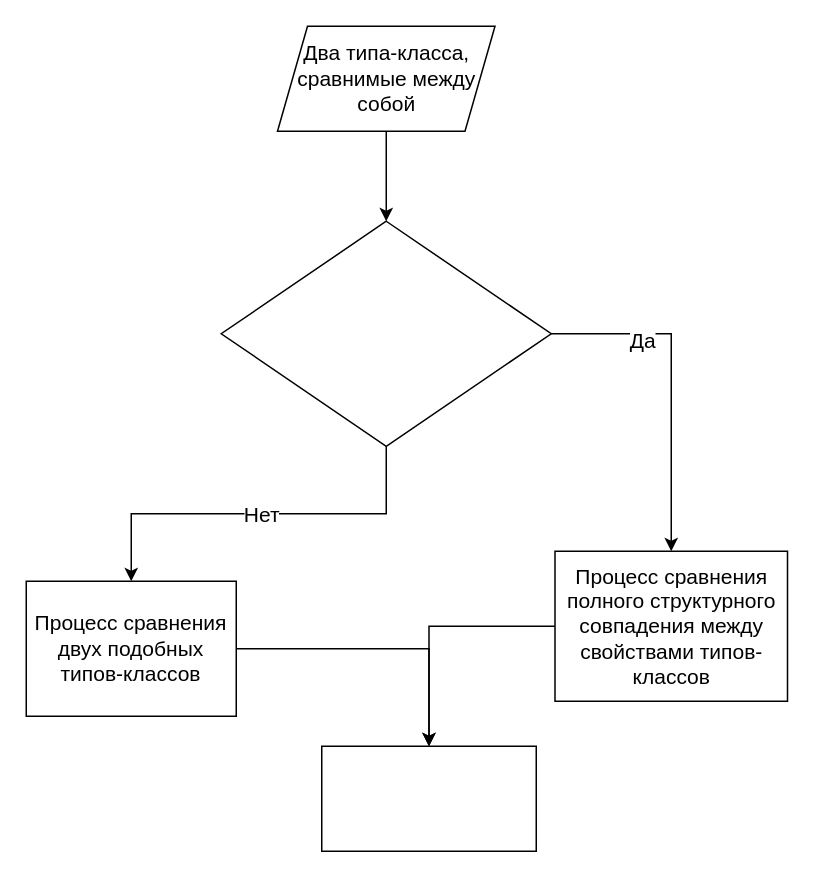
Image size: 815x878. Some labels were removed from this diagram. Each missing label, with the centre of its shape:
Возвращаем результат сравнения двух типов-классов: [428,798]
Количество свойств классовых типов совпадает: [385,333]
